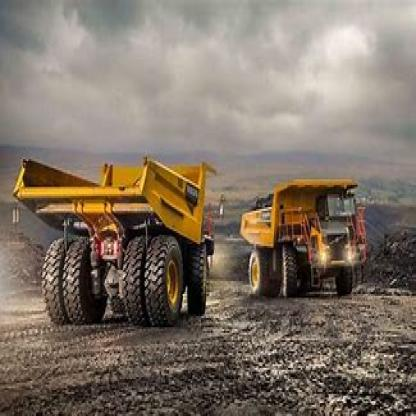dump_truck: (9, 142, 219, 322), (241, 166, 362, 296)
